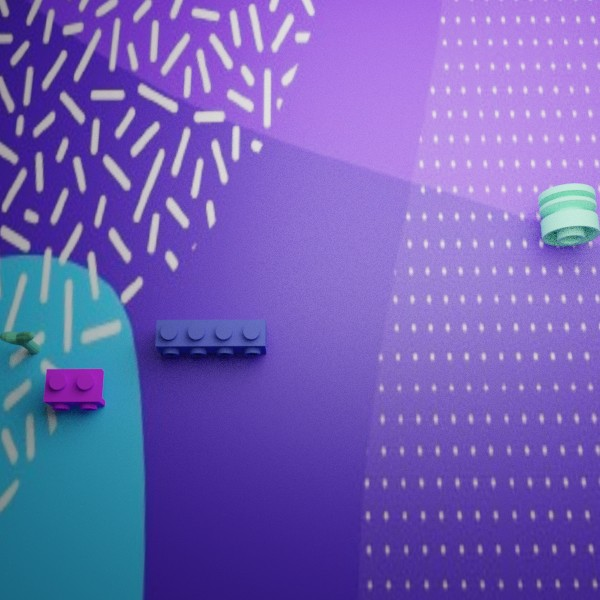lego: (155, 319, 266, 356), (538, 183, 600, 246), (43, 368, 105, 411), (0, 331, 40, 354)
